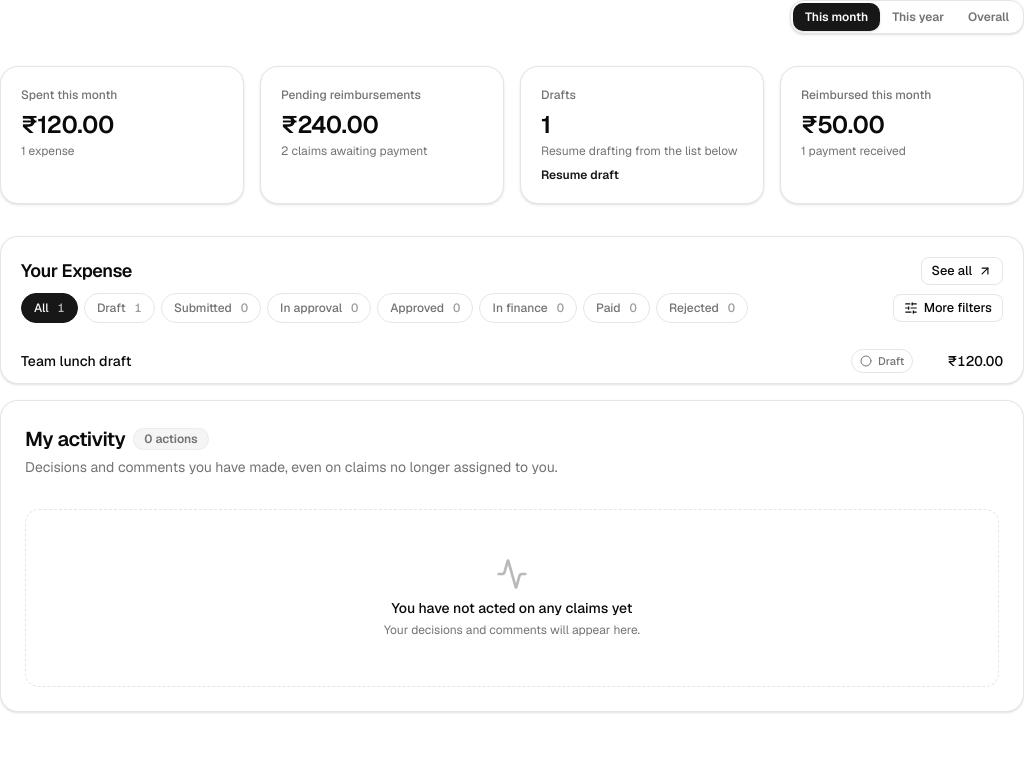
Test: ExpenseDashboard drawer integration › opens the drawer on the newest draft from the drafts CTA
Click the button "Resume draft" at (580, 175), box [541,167,619,183]
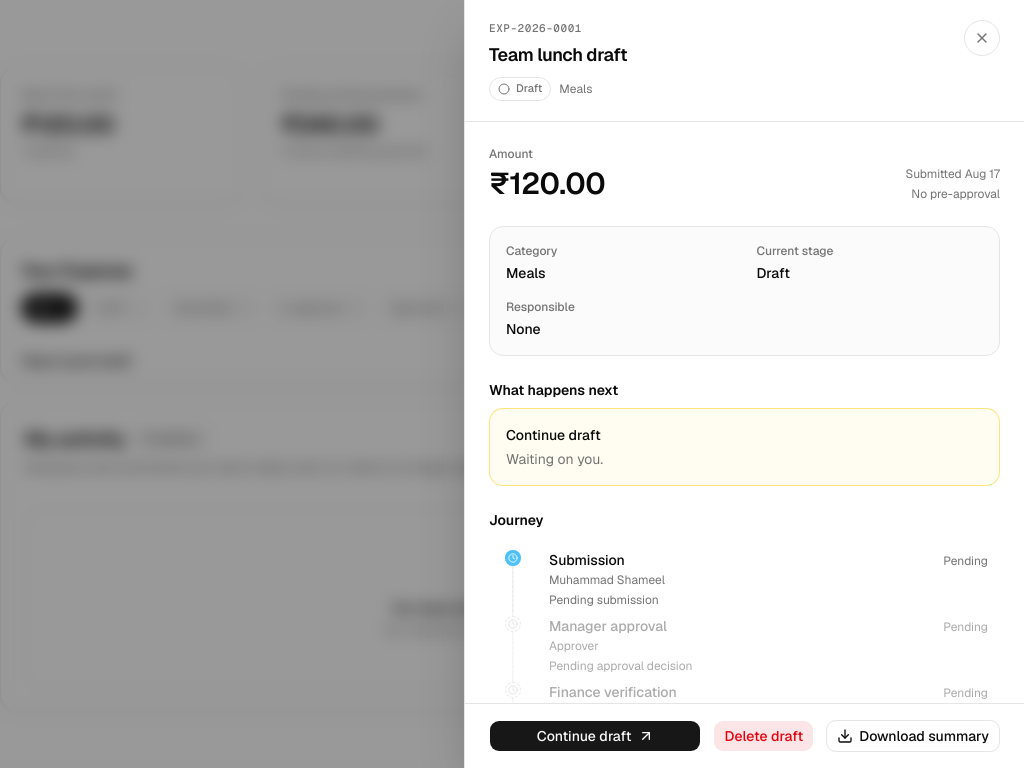
Check: the dialog is shown, box [464,0,1023,767]
Check: the dialog shows "Team lunch draft", box [489,42,627,66]
